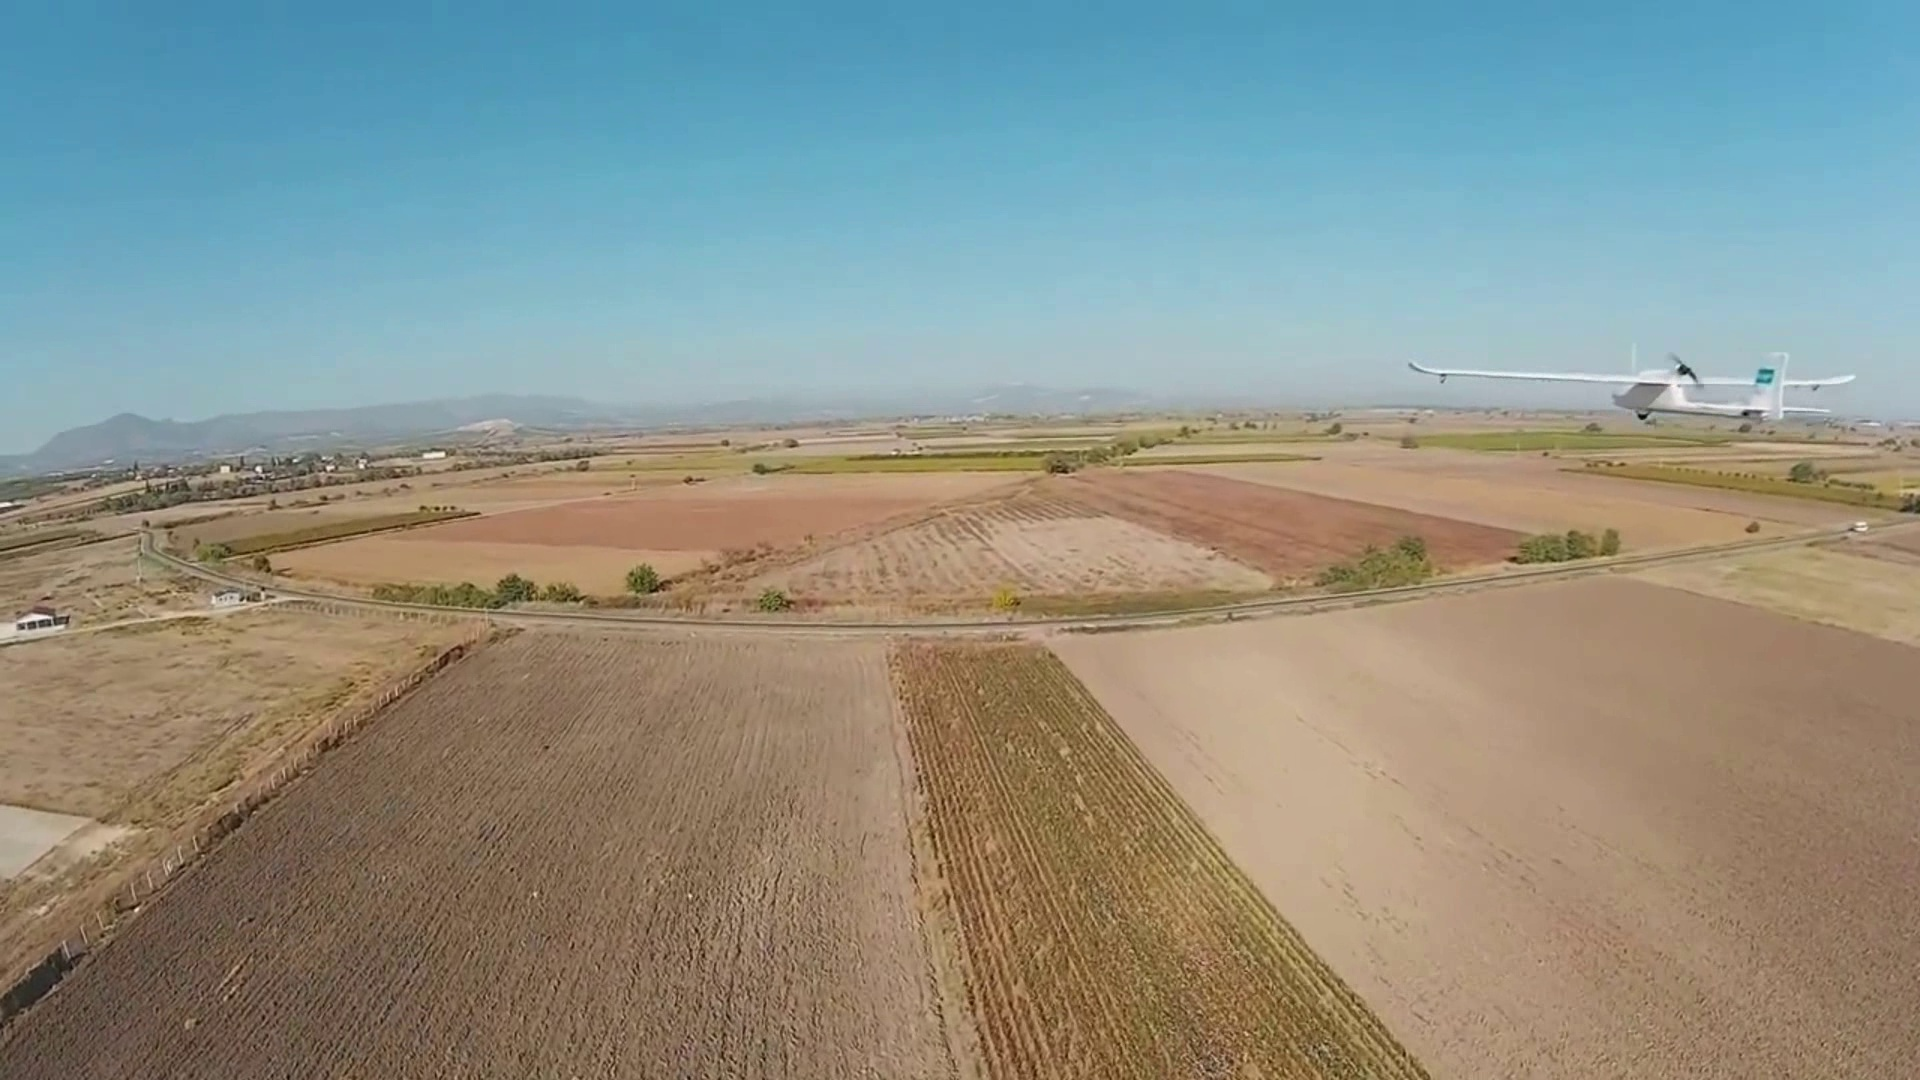airplane: (1404, 345, 1860, 428)
